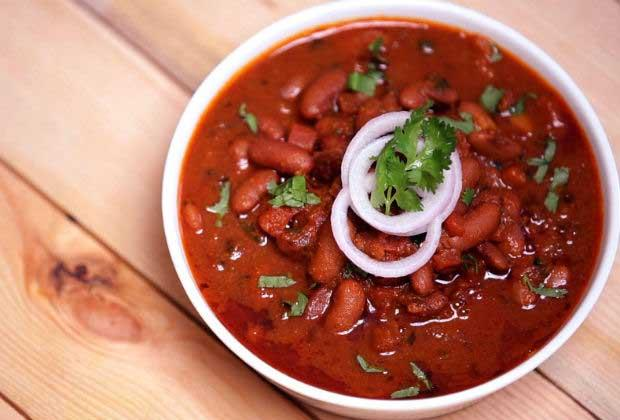rajma: (203, 39, 598, 413)
